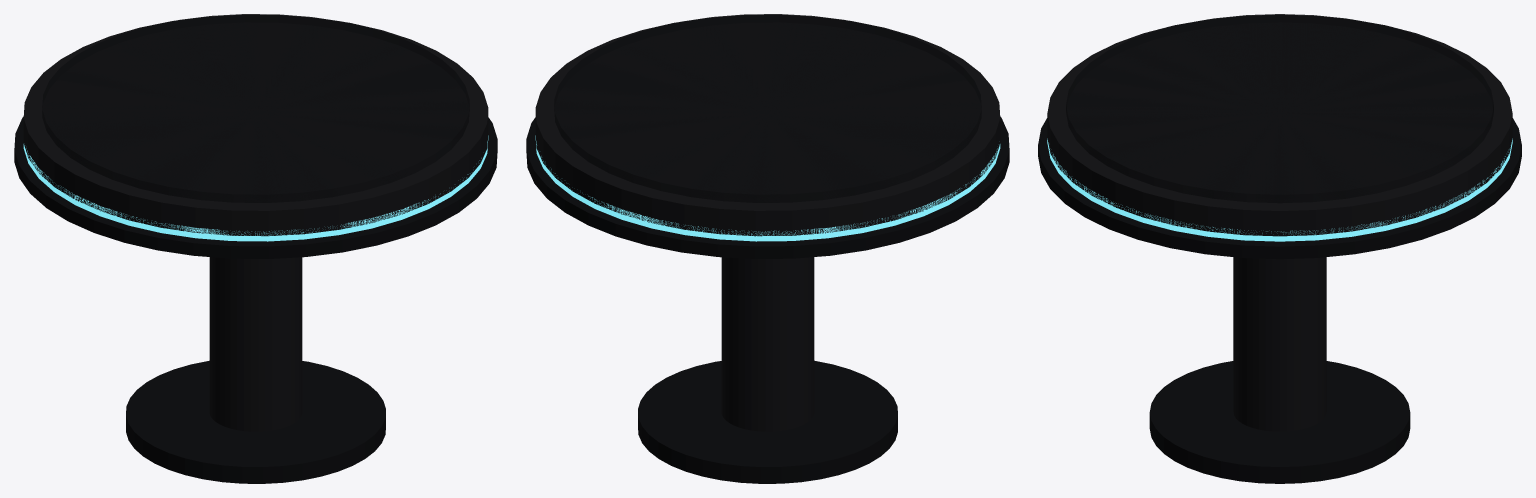
The model's file is room_l3_img2_evidence_round_table.glb.
3 views of the same model, side by side, from view 1: azimuth 30°, elevation 25°; view 2: azimuth 150°, elevation 25°; view 3: azimuth 270°, elevation 25° (orthographic).
Visible parts, largest first — view 1: table_top, glass_inset, foot, column, brass_rim, scanner_rim; view 2: table_top, glass_inset, foot, column, brass_rim, scanner_rim; view 3: table_top, glass_inset, foot, column, brass_rim, scanner_rim.
Boxes of the visible parts, box(x1,y1,x2,y2) form: table_top: box(23, 15, 488, 236); glass_inset: box(42, 14, 469, 202); foot: box(126, 360, 385, 483); column: box(209, 257, 302, 431); brass_rim: box(14, 116, 497, 258); scanner_rim: box(23, 135, 488, 241); table_top: box(535, 15, 1000, 236); glass_inset: box(554, 14, 981, 202); foot: box(638, 360, 897, 483); column: box(721, 257, 814, 431); brass_rim: box(526, 116, 1009, 258); scanner_rim: box(535, 135, 1000, 241); table_top: box(1047, 15, 1512, 236); glass_inset: box(1066, 14, 1493, 203); foot: box(1149, 361, 1410, 483); column: box(1233, 257, 1326, 431); brass_rim: box(1038, 118, 1521, 259); scanner_rim: box(1047, 138, 1512, 241).
Size of the model in its own units: 1.04 by 0.77 by 1.04.
4 materials, 4 textured.
